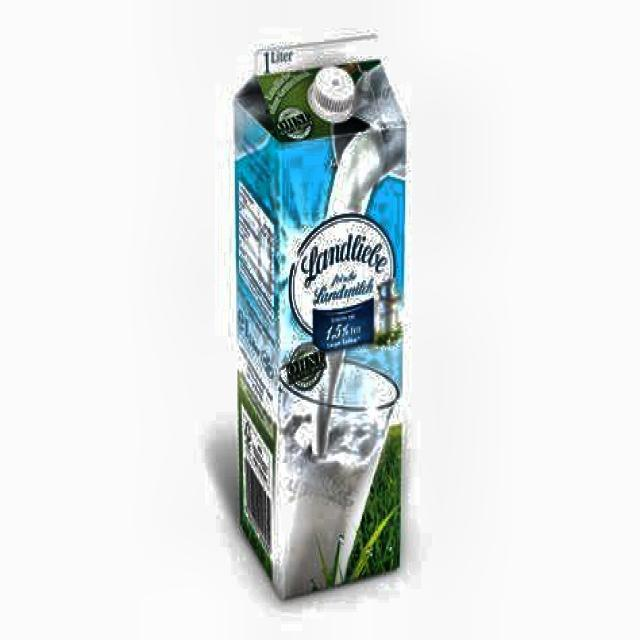cardboard: (231, 33, 408, 600)
